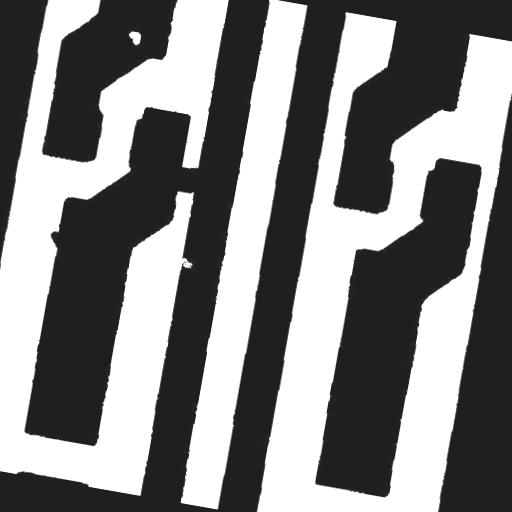mousebite: (166, 248, 202, 276)
pin-hole: (118, 22, 149, 54)
short: (158, 154, 212, 203)
spur: (38, 220, 76, 260)
